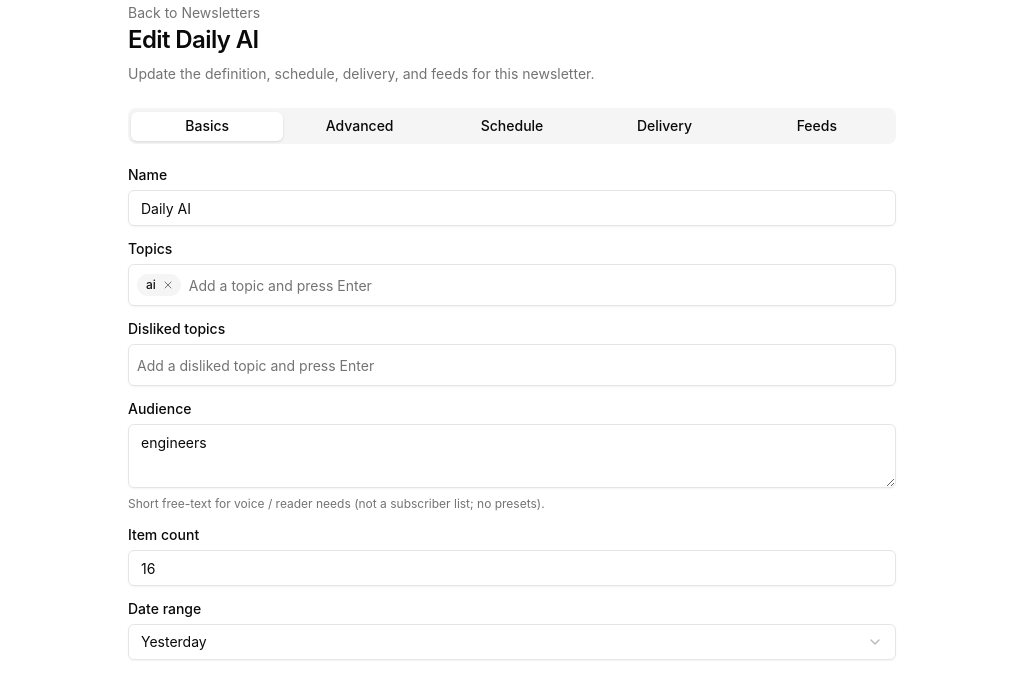
Test case: NewsletterEditForm — Model overrides › Advanced tab renders five inputs with defaultValue from newsletter props
The image size is (1024, 675).
Click the tab "Advanced" at (360, 126), box [283,112,436,140]
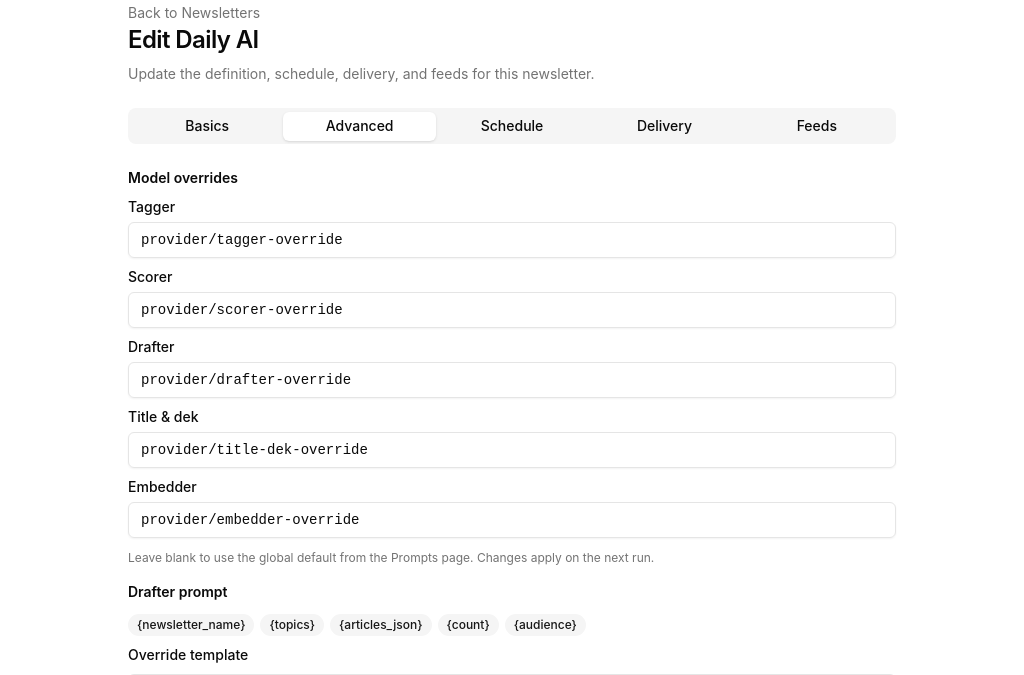
Result: the field labelled "Tagger" holds "provider/tagger-override" at [128,222,896,258]
Result: the field labelled "Scorer" holds "provider/scorer-override" at [128,292,896,328]
Result: the field labelled "Drafter" holds "provider/drafter-override" at [128,362,896,398]
